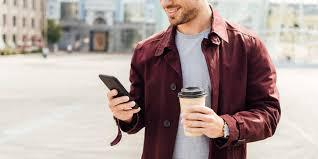Hand: (103, 88, 146, 122), (181, 105, 225, 138), (165, 0, 189, 25)
Smartphone: (100, 74, 142, 112)
